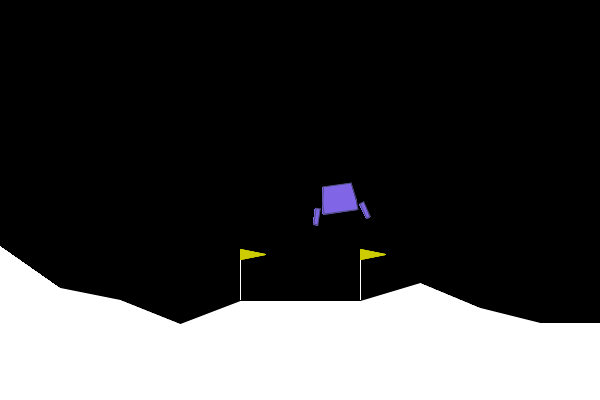lander: (307, 179, 372, 227)
